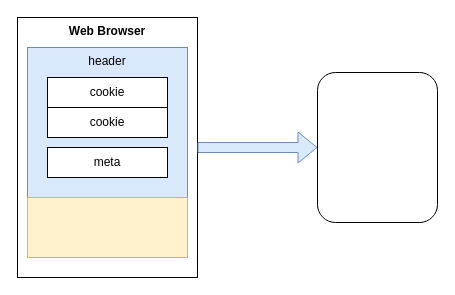
This 455x295 diagram has some shape labels left out. Here are the shapes that lost their labels. From the top down, the centre of each, then its label:
At (377,147): "Server".
At (107,227): "Body".
